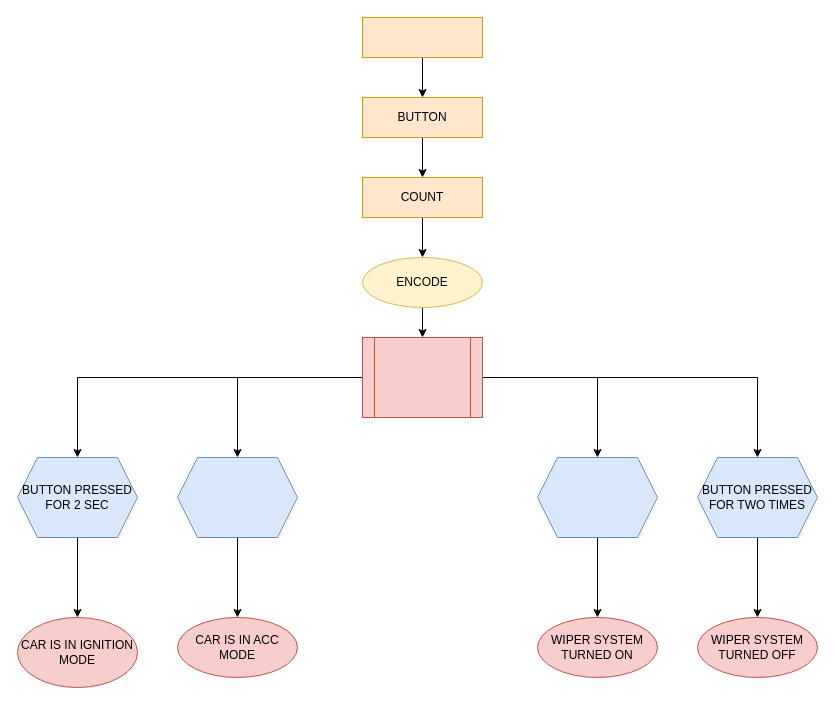
Some shapes in this 835 by 705 pixel diagram are drawn without their labels. Each missing label, with the centre of its shape:
"BUTTON PRESSED FOR ONE TIME" goes at (x=597, y=497).
"BUTTON PRESSES FOR 2 SEC AGAIN" goes at (x=237, y=497).
"CONDITION" goes at (x=422, y=377).
"START" goes at (x=422, y=37).
